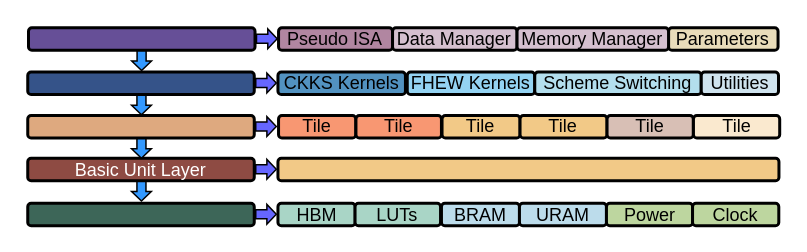
The diagram is 807 pixels wide and 252 high, and some of its shapes have lost their labels. Here are the shapes that lost their labels. From the top down, the box of each, then its label:
(26, 26, 256, 51): Control & Algorithm Layer
(26, 70, 255, 95): Fine-Grained Kernel Layer
(26, 113, 255, 139): Tiles Layer
(276, 156, 780, 182): Primitives
(26, 201, 255, 226): Memory & Physical FPGA
